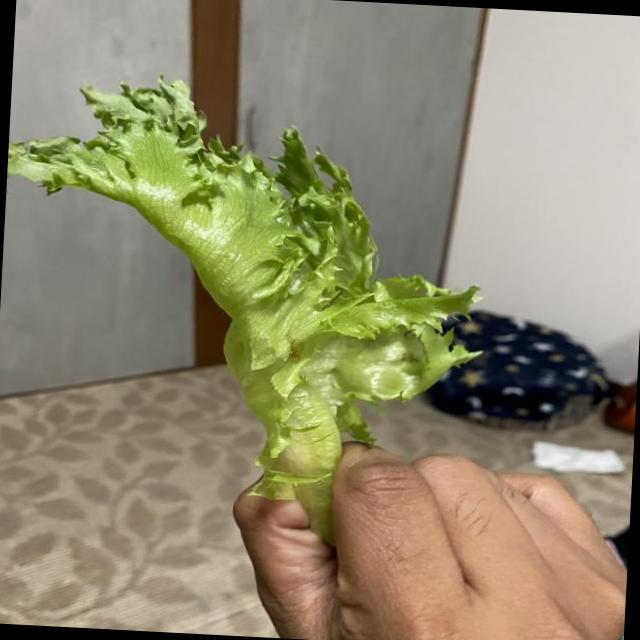Lettuce-Ready-to-Harvest: (7, 81, 476, 540)
